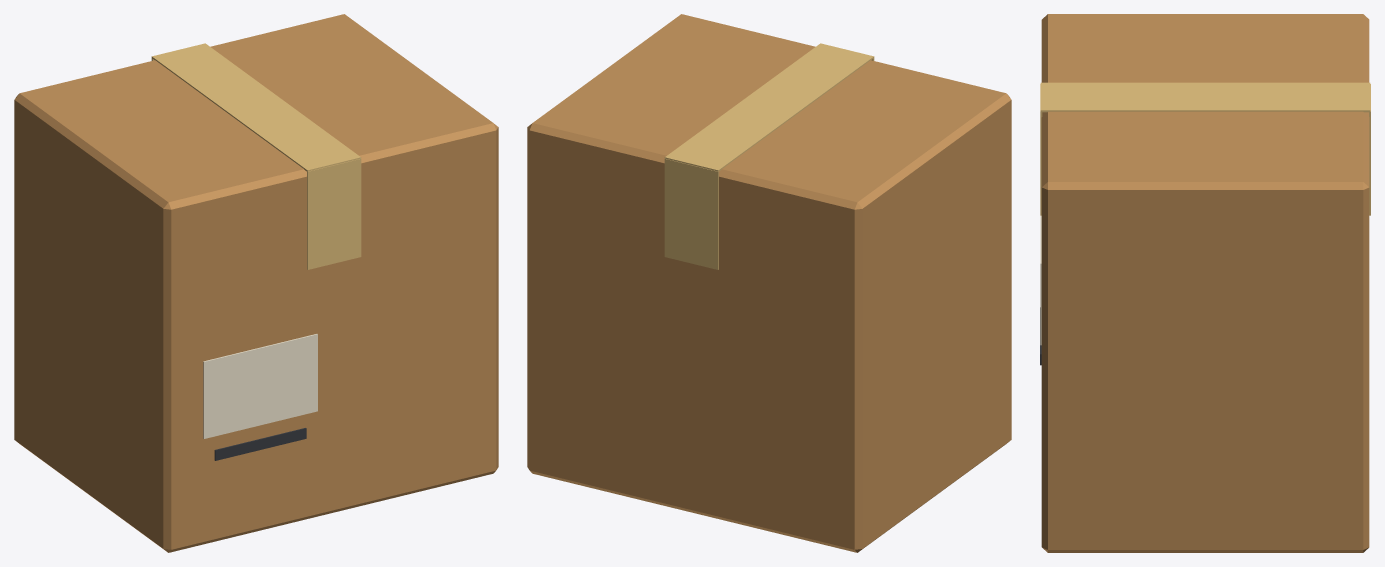
File: box_large.glb
3 renders of one model, left to right at view 1: azimuth 30°, elevation 25°; view 2: azimuth 150°, elevation 25°; view 3: azimuth 270°, elevation 25°, orthographic. The views are drawn at different scales.
Visible parts, largest first — view 1: box_large; view 2: box_large; view 3: box_large.
Boxes of the visible parts, x1,y1,x2,y2 form: box_large: (14, 14, 498, 552); box_large: (527, 14, 1011, 552); box_large: (1040, 14, 1370, 552).
Size of the model in its own units: 0.8 by 0.803 by 0.6465.
